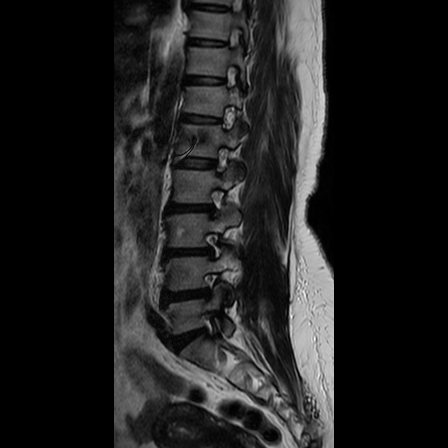LFS0: (200, 138, 234, 183), (194, 223, 227, 266), (197, 183, 231, 222)
LFS1: (192, 266, 225, 306)
